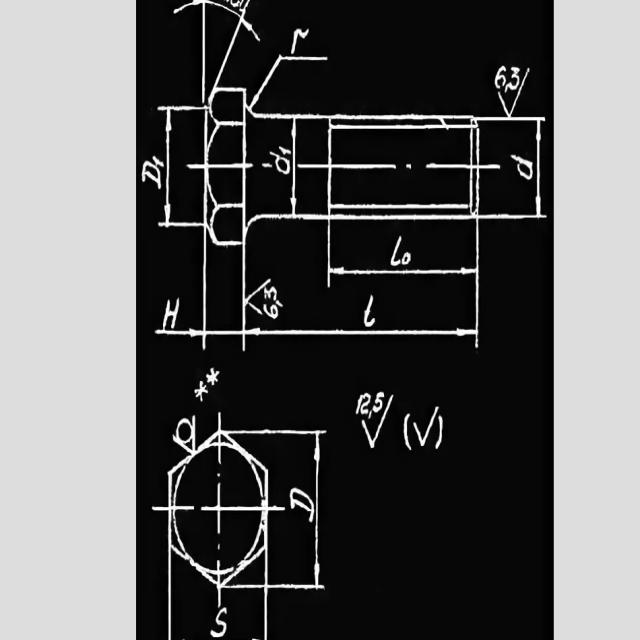marking_line: (250, 56, 334, 114), (194, 4, 223, 106), (245, 327, 474, 339), (330, 264, 475, 279), (311, 433, 325, 587), (162, 107, 173, 224), (289, 117, 301, 214), (495, 90, 525, 117)
numeric: (486, 62, 521, 91), (352, 389, 386, 417), (261, 287, 280, 323)
special_symbol: (170, 414, 197, 456), (411, 408, 438, 448), (361, 410, 383, 448)
